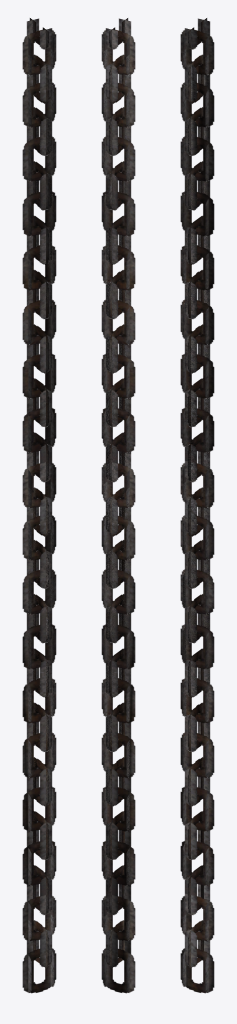
The model's file is JoshuaPFingerle-workshoplampchain.glb.
3 views of the same model, side by side, from view 1: azimuth 30°, elevation 25°; view 2: azimuth 150°, elevation 25°; view 3: azimuth 330°, elevation 25° (orthographic).
Parts seen in each view (by area): view 1: mesh0.001; view 2: mesh0.001; view 3: mesh0.001.
Boxes of the visible parts, box(x1,y1,x2,y2) form: mesh0.001: box(22, 18, 56, 993); mesh0.001: box(101, 18, 135, 993); mesh0.001: box(180, 18, 214, 993).
Size of the model in its own units: 0.1875 by 4.63 by 0.1875.
1 material, 1 textured.
